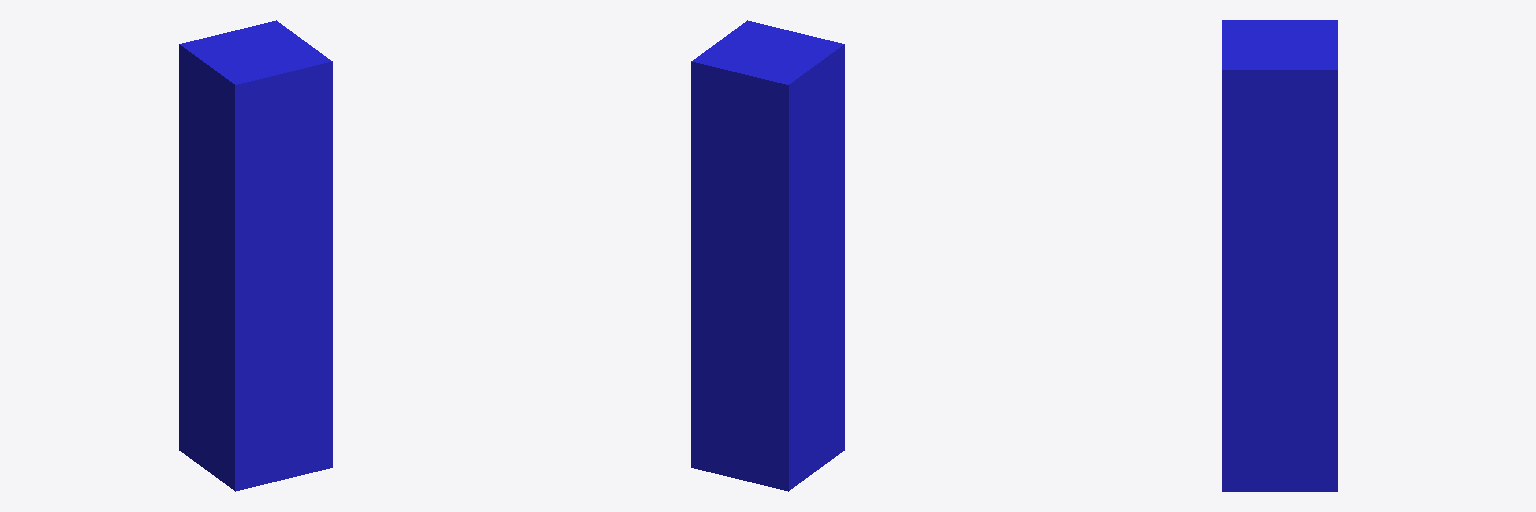
robot.urdf — pillar:
<?xml version="1.0"?>
<robot name="pillar">
  <material name="pillar_mat">
    <color rgba="0.2 0.2 0.9 1"/>
  </material>

  <link name="pillar_link">
    <inertial>
      <origin rpy="0 0 0" xyz="0 0 0"/>
      <mass value="0"/>
      <inertia ixx="0" ixy="0" ixz="0" iyy="0" iyz="0" izz="0"/>
    </inertial>
    <visual>
      <origin rpy="0 0 0" xyz="0 0.0 2"/>
      <geometry>
        <box size="1 1 4"/>
      </geometry>
      <material name="pillar_mat"/>
    </visual>
    <collision>
      <origin rpy="0 0 0" xyz="0 0 2"/>
      <geometry>
        <box size="1 1 4"/>
      </geometry>
    </collision>
  </link>
  
</robot>

--- Facts derived from the render (not from the file) ---
Views: 3 orthographic renders of the robot side by side, from view 1: azimuth 30°, elevation 25°; view 2: azimuth 150°, elevation 25°; view 3: azimuth 270°, elevation 25°.
Robot: pillar — 1 links, 0 joints (none); root link pillar_link; default pose: all joints at 0.
Visible links, largest first — view 1: pillar_link; view 2: pillar_link; view 3: pillar_link.
Boxes of the visible links, <box> form: pillar_link: <box>179,20,332,491</box>; pillar_link: <box>691,20,844,491</box>; pillar_link: <box>1222,20,1337,491</box>.
Bounding box of the posed robot: 1 × 1 × 4 m (x, y, z).
Geometry: primitives only (box / cylinder / sphere), no mesh files.